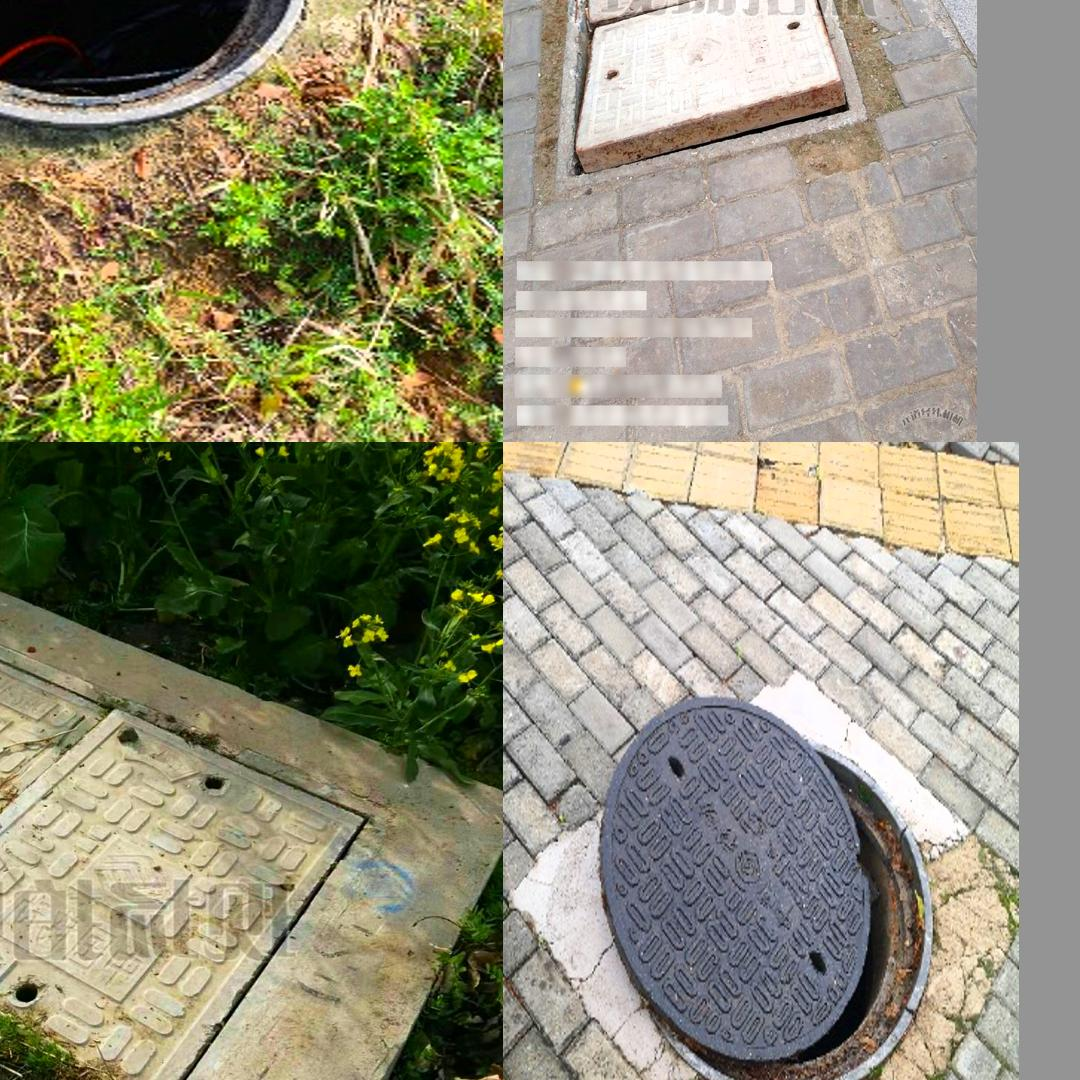uncovered: (0, 606, 388, 1080), (598, 699, 932, 1080), (578, 0, 878, 154), (0, 0, 309, 125)
